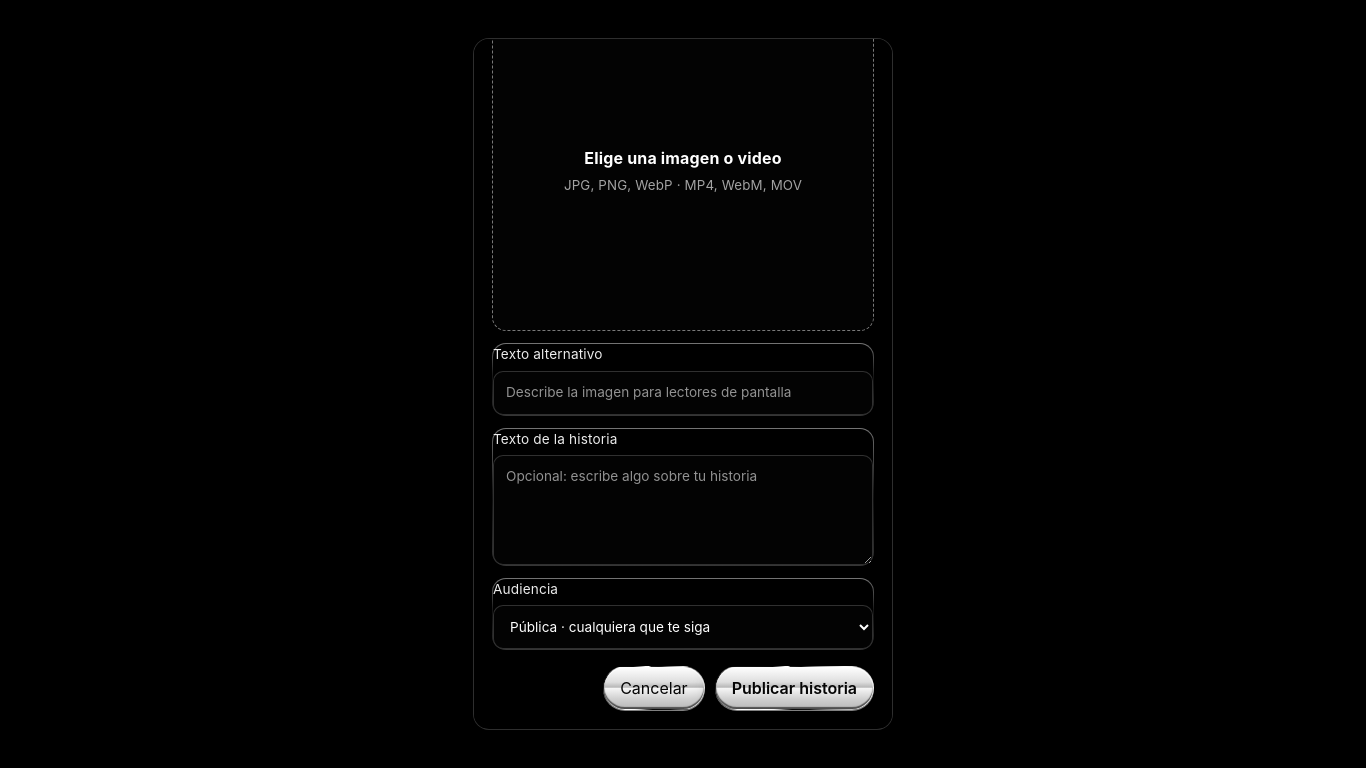
Test: el creador exige archivo y no publica sin él
This screenshot has width=1366, height=768.
(page scrolled)
Step 1. Click the button "Publicar historia" → (794,688), box [715, 666, 874, 710]
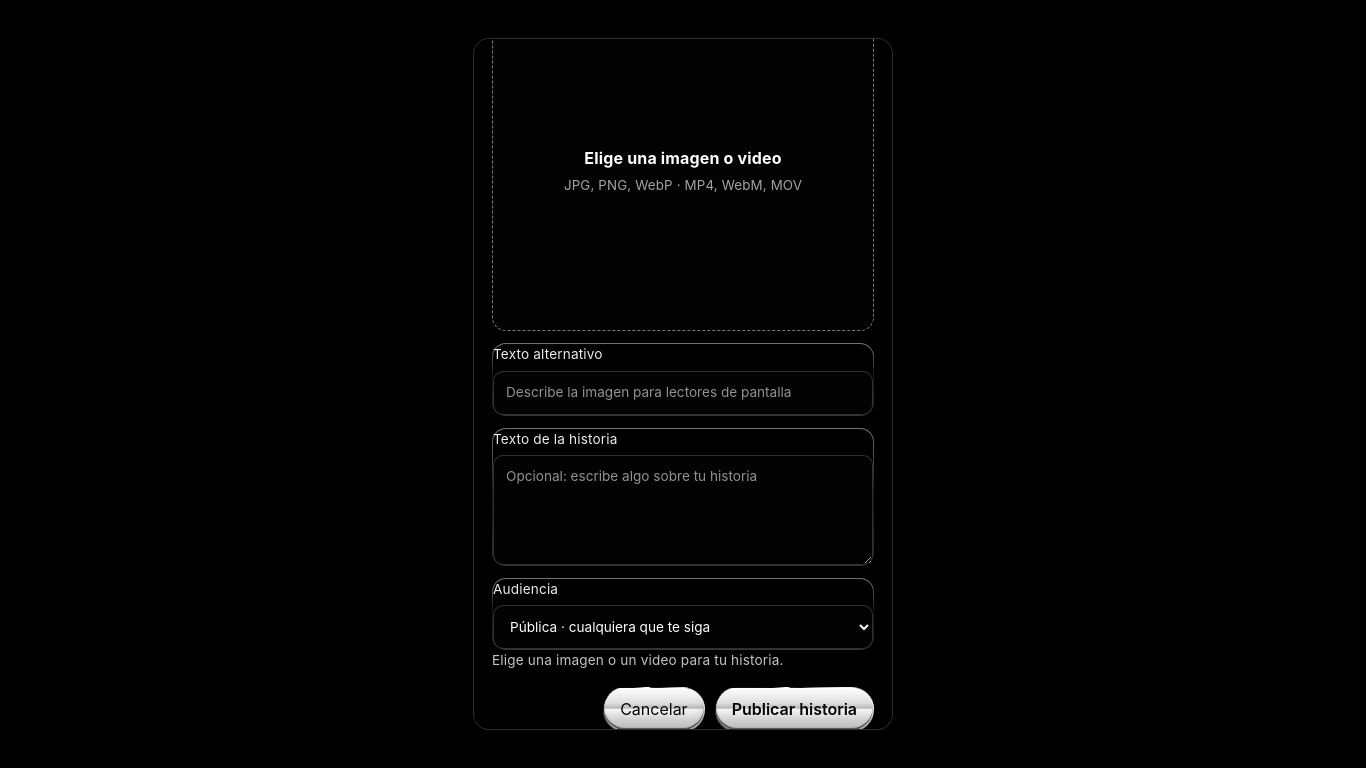
Expected: the text "Elige una imagen o un video para tu historia." is shown, [492, 652, 784, 668]
